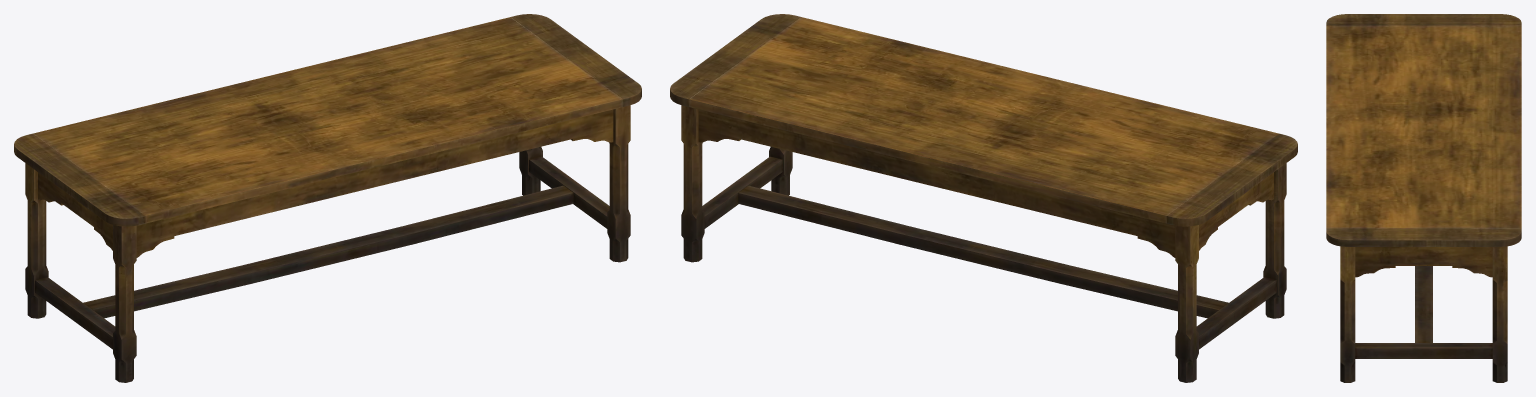
Rendered from woodentable_01.glb.
The picture shows the model from 3 angles, left to right: view 1: azimuth 30°, elevation 25°; view 2: azimuth 150°, elevation 25°; view 3: azimuth 270°, elevation 25°; orthographic projection. The views are drawn at different scales.
Parts seen in each view (by area): view 1: WoodenTable_01; view 2: WoodenTable_01; view 3: WoodenTable_01.
Boxes of the visible parts, box(x1,y1,x2,y2) form: WoodenTable_01: box(14, 14, 641, 382); WoodenTable_01: box(670, 14, 1297, 382); WoodenTable_01: box(1326, 14, 1521, 382).
Size of the model in its own units: 1.8 by 0.5488 by 0.6571.
Materials: 1 (1 with a texture image).
